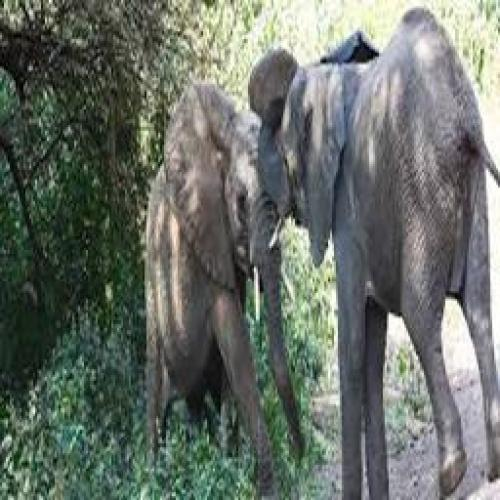african_elephant-endangered: (244, 6, 500, 492), (144, 85, 308, 497)
